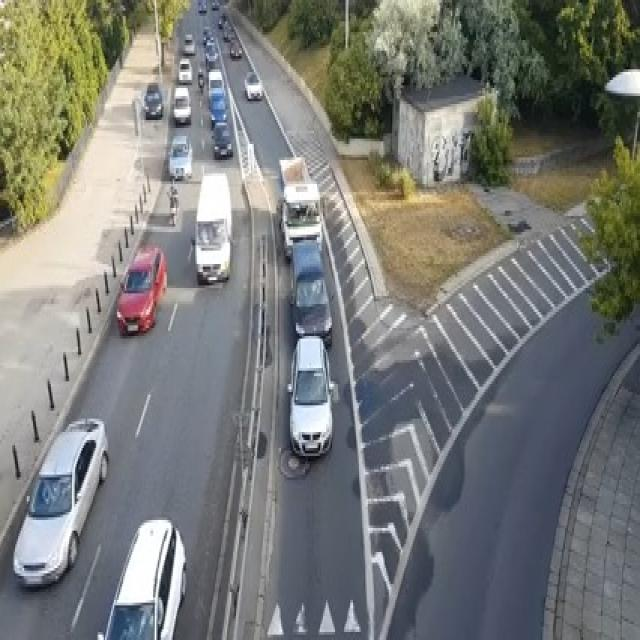bus: (194, 168, 231, 283)
car: (12, 416, 108, 587), (96, 518, 186, 638), (287, 333, 333, 459), (116, 243, 166, 336), (288, 240, 332, 344), (280, 181, 322, 259), (168, 133, 192, 179), (141, 80, 162, 117), (212, 120, 233, 157), (209, 85, 227, 128), (173, 85, 191, 123), (243, 69, 263, 99), (207, 67, 224, 101), (178, 56, 192, 83), (228, 37, 242, 59), (204, 40, 218, 61), (182, 32, 195, 53), (222, 21, 235, 40), (197, 64, 204, 91), (203, 24, 212, 43), (218, 10, 225, 27), (197, 0, 206, 13), (210, 0, 220, 8)
